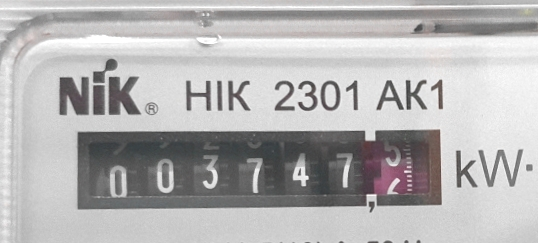0: (154, 155, 175, 193), (107, 162, 129, 198)
3: (200, 152, 220, 189)
4: (289, 149, 310, 189)
5: (382, 138, 402, 167)
6: (383, 174, 402, 195)
7: (333, 148, 356, 189), (244, 154, 264, 194)
screen: (66, 113, 457, 227)
